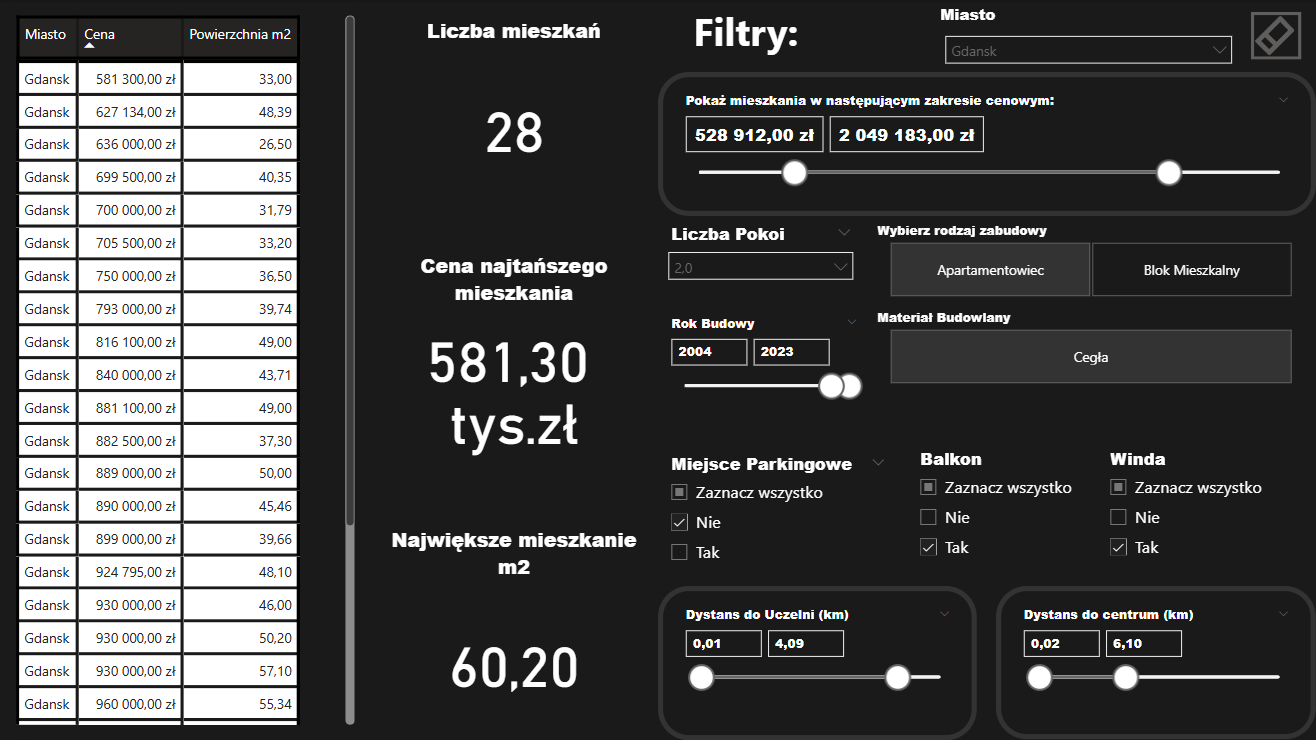

Layout of this report page (visuals, bound fields, positions):
{"tool":"powerbi","page":{"name":"Wyszukiwarka nieruchomości","canvas":[1280,720],"ordinal":2},"visuals":[{"type":"tableEx","fields":{"Values":["Dane Nieruchomości 15 Miast.Miasto","Dane Nieruchomości 15 Miast.Cena","Sum(Dane Nieruchomości 15 Miast.Powierzchnia (m^2))"]},"box":[0,0,359.9,719.8],"z":0},{"type":"card","title":"Liczba mieszkań","fields":{"Values":["CountNonNull(Dane Nieruchomości 15 Miast.Cena)"]},"box":[359.8,15.4,280.2,186.3],"z":1000},{"type":"card","title":"Największe mieszkanie m2","fields":{"Values":["Max(Dane Nieruchomości 15 Miast.Powierzchnia (m^2))"]},"box":[359.8,510.2,280.2,208.2],"z":2000},{"type":"card","title":"Cena najtańszego mieszkania","fields":{"Values":["Min(Dane Nieruchomości 15 Miast.Cena)"]},"box":[359.8,244.2,280.2,208.2],"z":3000},{"type":"slicer","fields":{"Values":["Dane Nieruchomości 15 Miast.Cena"]},"box":[640,70,640,140.1],"z":4000},{"type":"slicer","fields":{"Values":["Dane Nieruchomości 15 Miast.Liczba Pokoi"]},"box":[640,210.1,200.4,84.6],"z":5000},{"type":"slicer","fields":{"Values":["Dane Nieruchomości 15 Miast.Balkon"]},"box":[882.2,428.9,173.1,125.5],"z":6000},{"type":"slicer","fields":{"Values":["Dane Nieruchomości 15 Miast.Miejsce Parkingowe"]},"box":[640,433.8,233.4,125.5],"z":7000},{"type":"slicer","fields":{"Values":["Dane Nieruchomości 15 Miast.Winda"]},"box":[1067,428.9,213,125.5],"z":8000},{"type":"slicer","fields":{"Values":["Dane Nieruchomości 15 Miast.Dystans do centrum"]},"box":[968.8,570,311.2,148.8],"z":9000},{"type":"slicer","fields":{"Values":["Dane Nieruchomości 15 Miast.Dystans do Uczelni"]},"box":[640,570,310.3,149.8],"z":10000},{"type":"slicer","fields":{"Values":["Dane Nieruchomości 15 Miast.Materiał Budowlany"]},"box":[840.4,294.7,439.6,84.6],"z":11000},{"type":"slicer","fields":{"Values":["Dane Nieruchomości 15 Miast.Rok Budowy"]},"box":[640,300.5,206.2,95.3],"z":12000},{"type":"slicer","fields":{"Values":["Dane Nieruchomości 15 Miast.Rodzaj Zabudowy"]},"box":[840.4,210.1,439.6,84.6],"z":13000},{"type":"textbox","box":[640,0,170.9,69.4],"z":14000},{"type":"slicer","title":"Miasto","fields":{"Values":["Dane Nieruchomości 15 Miast.Miasto"]},"box":[909.9,3.9,299.4,61.7],"z":14001},{"type":"actionButton","box":[1217,11.6,48.8,46.3],"z":14003}]}

Visuals, with their boxes in screenshot pixels (x1, y1, x2, y2), scaled from the page's 1280x720 canvas onto the 1316x740 screenshot:
tableEx - Dane Nieruchomości 15 Miast.Miasto x Dane Nieruchomości 15 Miast.Cena: 0,0,370,739
"Liczba mieszkań" card: 370,16,658,207
"Największe mieszkanie m2" card: 370,524,658,738
"Cena najtańszego mieszkania" card: 370,251,658,465
slicer - Dane Nieruchomości 15 Miast.Cena: 658,72,1315,216
slicer - Dane Nieruchomości 15 Miast.Liczba Pokoi: 658,216,864,303
slicer - Dane Nieruchomości 15 Miast.Balkon: 907,441,1085,570
slicer - Dane Nieruchomości 15 Miast.Miejsce Parkingowe: 658,446,898,575
slicer - Dane Nieruchomości 15 Miast.Winda: 1097,441,1315,570
slicer - Dane Nieruchomości 15 Miast.Dystans do centrum: 996,586,1315,739
slicer - Dane Nieruchomości 15 Miast.Dystans do Uczelni: 658,586,977,739
slicer - Dane Nieruchomości 15 Miast.Materiał Budowlany: 864,303,1315,390
slicer - Dane Nieruchomości 15 Miast.Rok Budowy: 658,309,870,407
slicer - Dane Nieruchomości 15 Miast.Rodzaj Zabudowy: 864,216,1315,303
textbox: 658,0,834,71
"Miasto" slicer: 935,4,1243,67
actionButton: 1251,12,1301,60
